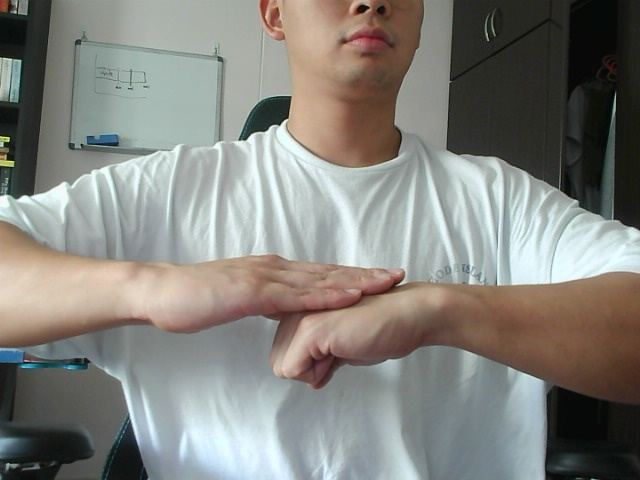Dog: (151, 224, 454, 411)
